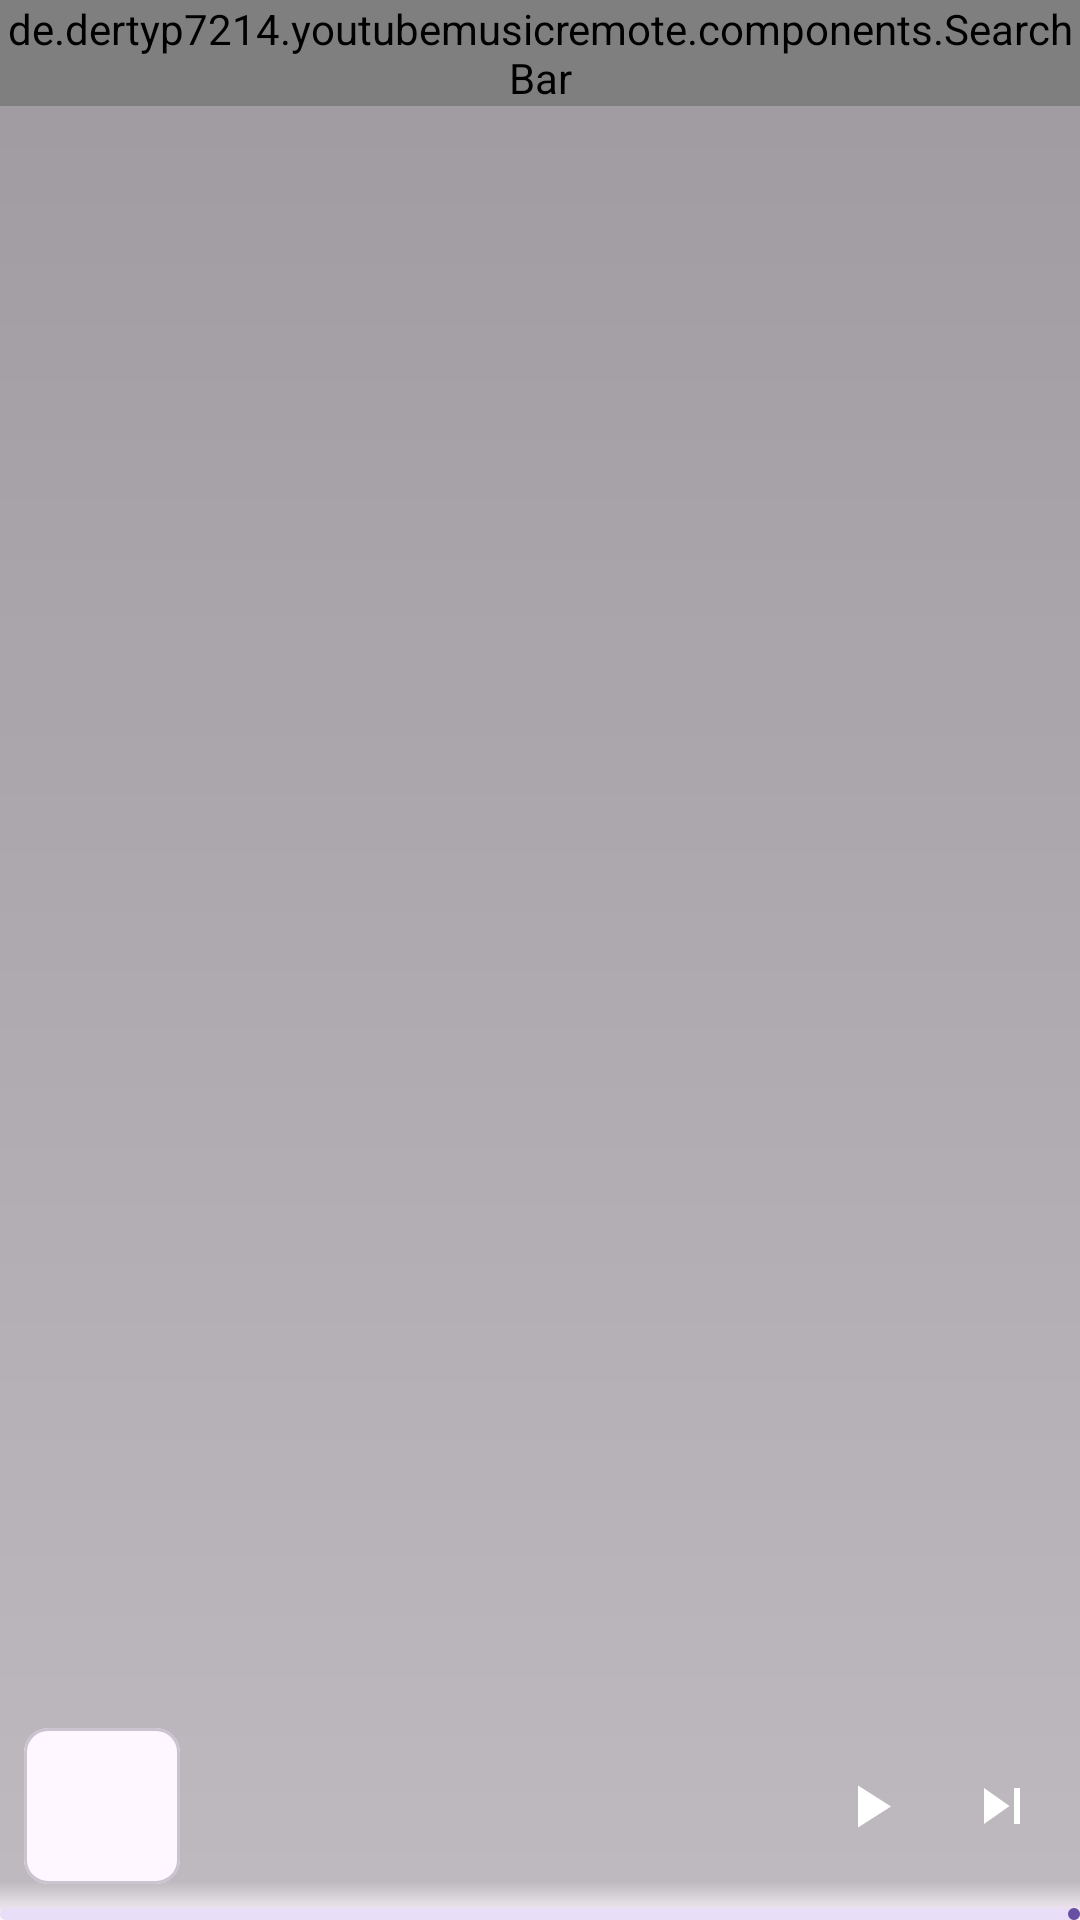

Screen size 1080 x 1920. Icon name, then its box in pixels as (x1, y1, x2, y2):
next: (984, 1788, 1020, 1824)
play: (858, 1786, 891, 1827)
